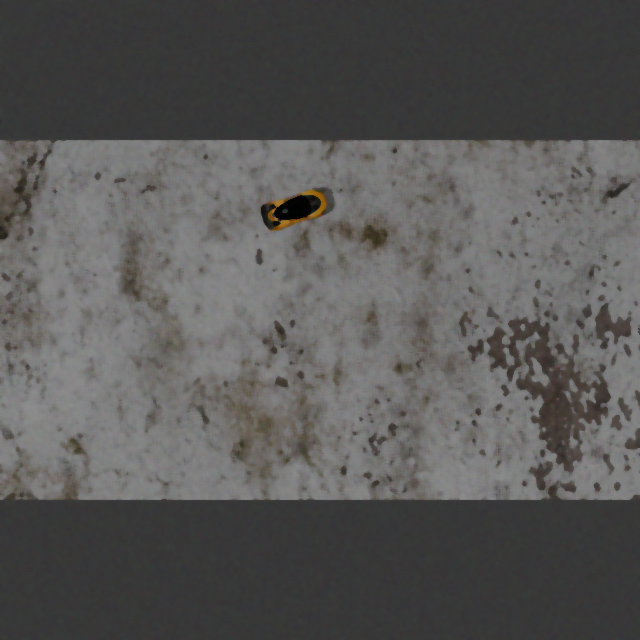car: (257, 182, 331, 234)
